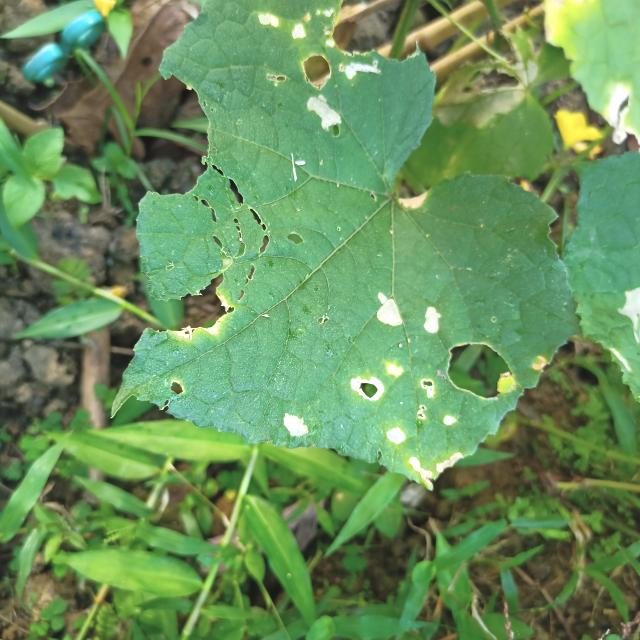disease_cucumber: (276, 370, 474, 484), (280, 57, 382, 136), (364, 298, 447, 339)
